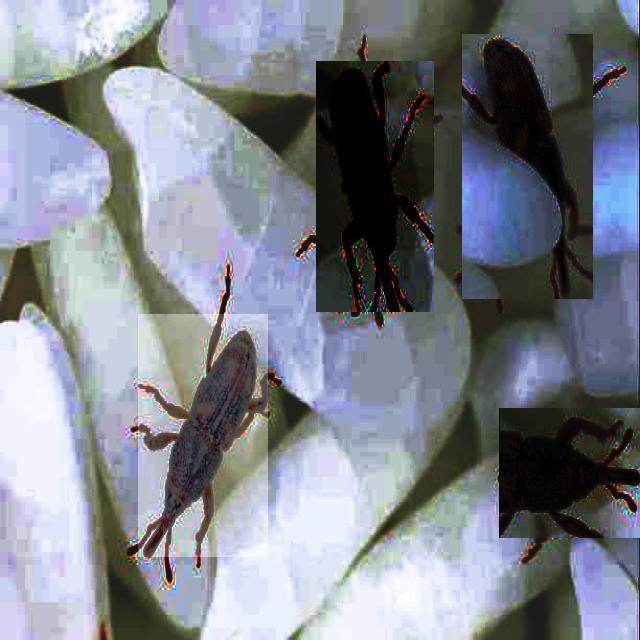rice-bug: (462, 34, 593, 299), (138, 314, 268, 557), (316, 61, 434, 312), (499, 408, 640, 538)
